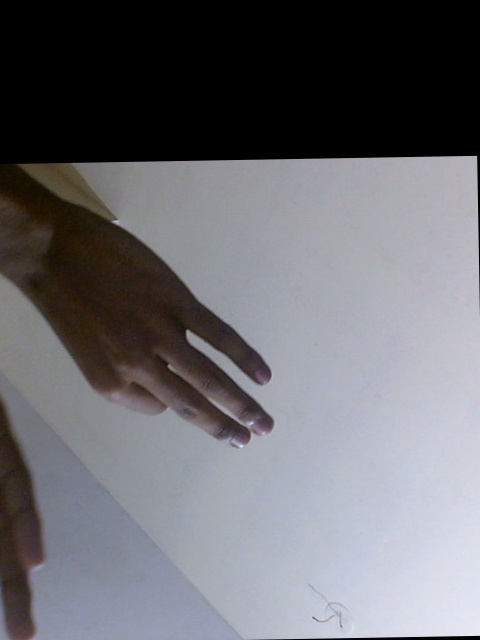hand: (9, 213, 281, 455)
